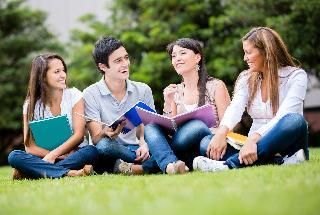person - v3 P: (194, 27, 308, 170), (145, 39, 230, 174), (9, 53, 98, 179), (87, 120, 159, 175)
